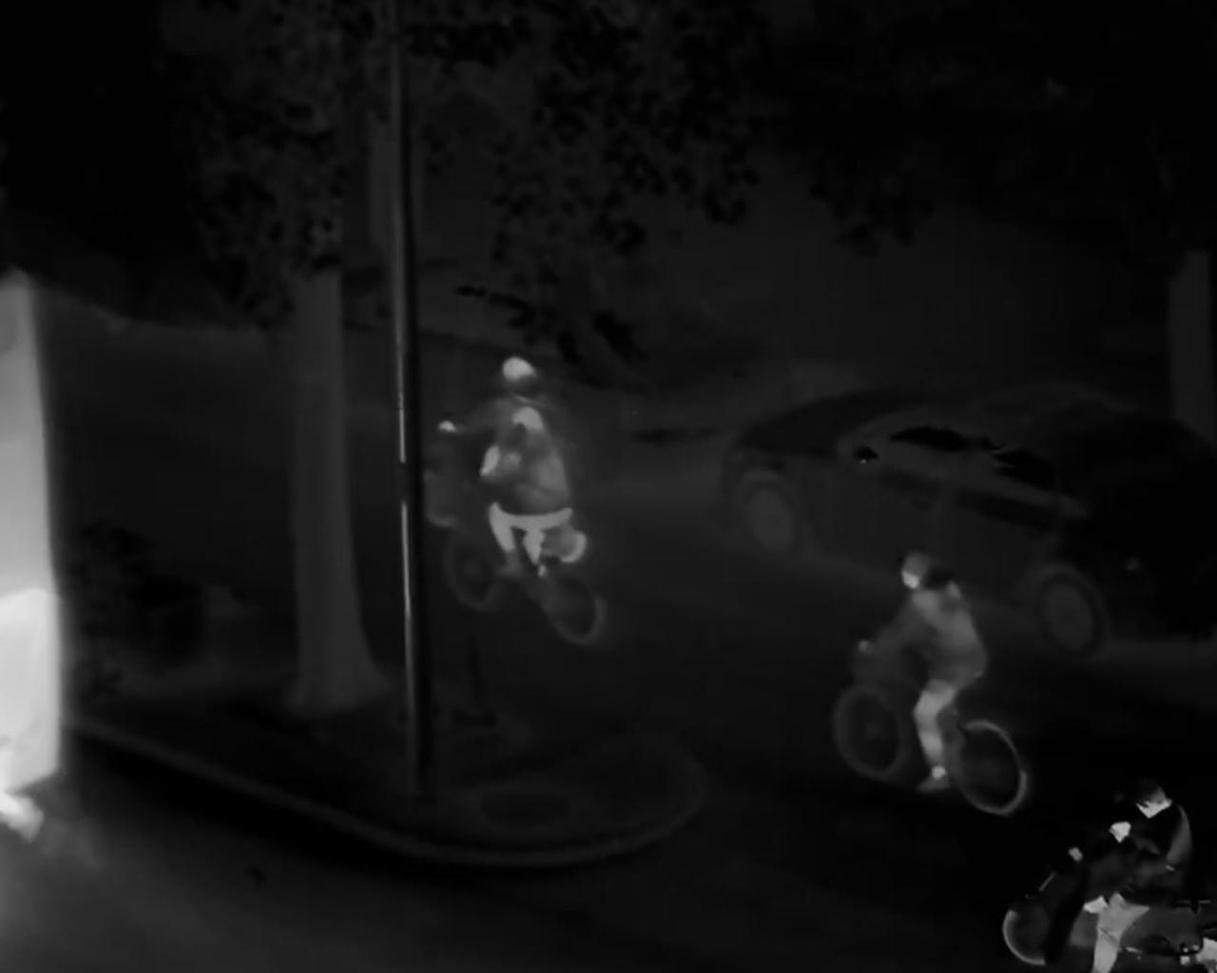person: (470, 350, 601, 630), (859, 557, 996, 794), (1099, 784, 1202, 973)
